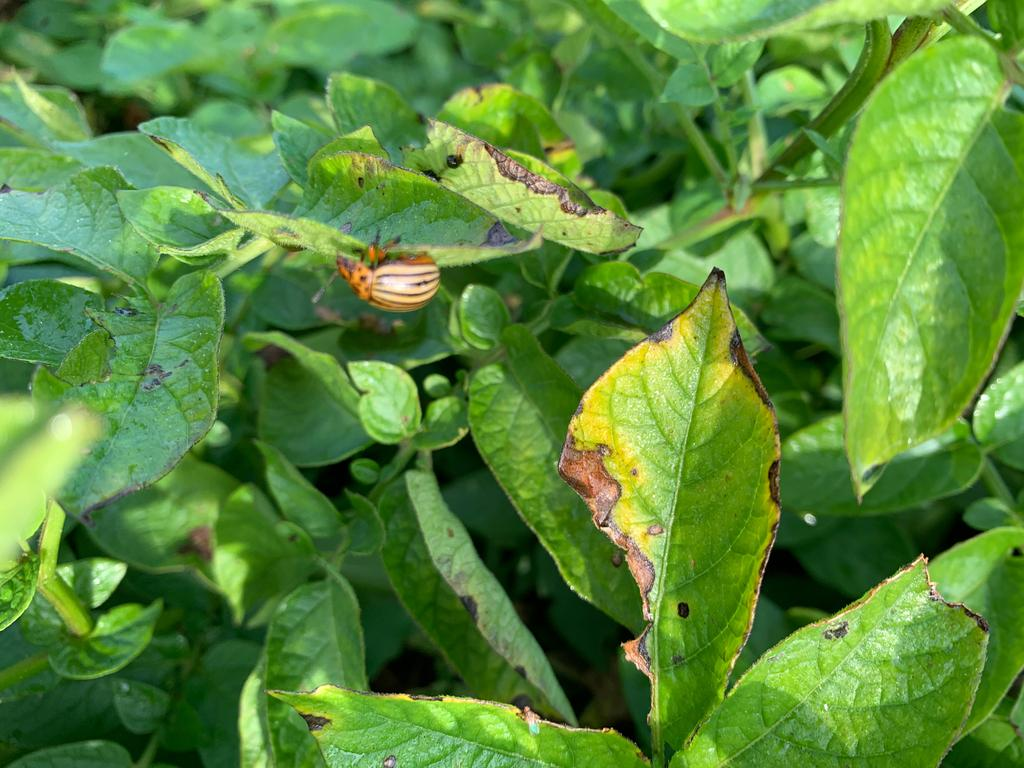potato_beetle: (311, 214, 462, 329)
